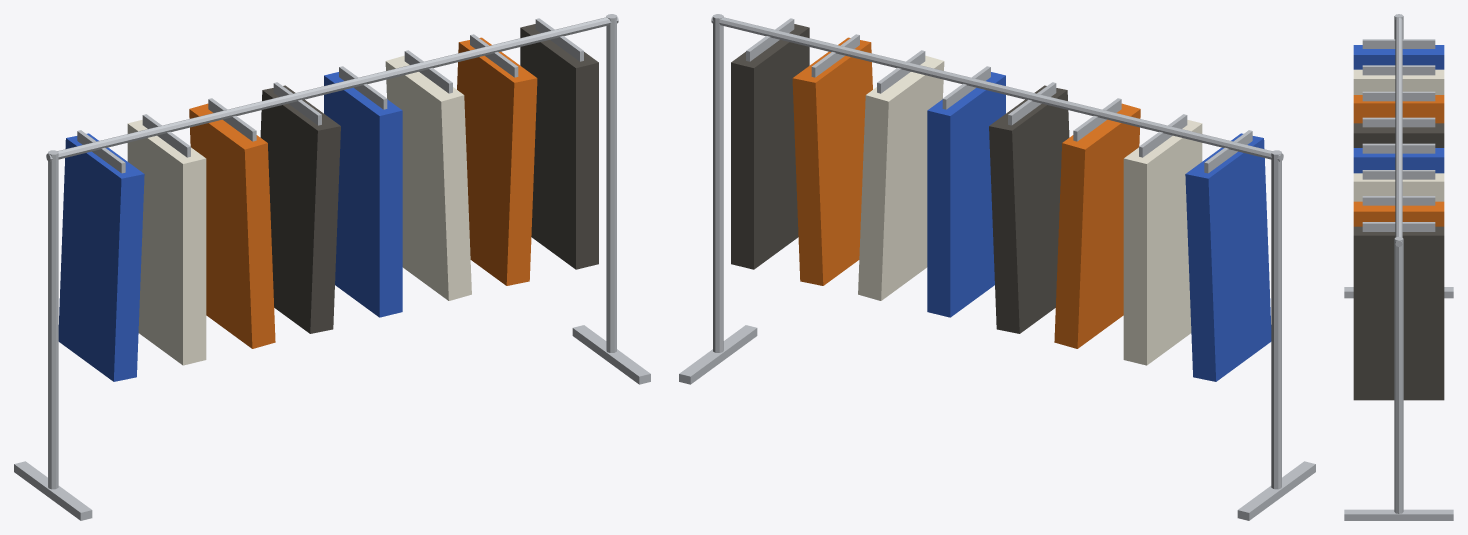
The model's file is rack_trades.glb.
3 views of the same model, side by side, from view 1: azimuth 30°, elevation 25°; view 2: azimuth 150°, elevation 25°; view 3: azimuth 270°, elevation 25° (orthographic). The views are drawn at different scales.
Visible parts, largest first — view 1: costume, post_rack_chrome, bar_rack_chrome, hanger_rack_chrome, foot_rack_chrome; view 2: costume, post_rack_chrome, bar_rack_chrome, hanger_rack_chrome, foot_rack_chrome; view 3: costume, hanger_rack_chrome, post_rack_chrome, bar_rack_chrome, foot_rack_chrome.
Part boxes in pixels (bbox=[...]): costume: bbox=[58, 24, 598, 381]; post_rack_chrome: bbox=[48, 14, 616, 489]; bar_rack_chrome: bbox=[46, 15, 618, 161]; hanger_rack_chrome: bbox=[77, 18, 583, 173]; foot_rack_chrome: bbox=[14, 325, 650, 520]; costume: bbox=[731, 24, 1271, 381]; post_rack_chrome: bbox=[713, 14, 1281, 489]; bar_rack_chrome: bbox=[711, 15, 1283, 161]; hanger_rack_chrome: bbox=[746, 18, 1252, 173]; foot_rack_chrome: bbox=[679, 325, 1315, 520]; costume: bbox=[1353, 45, 1444, 400]; hanger_rack_chrome: bbox=[1362, 39, 1435, 231]; post_rack_chrome: bbox=[1394, 14, 1403, 513]; bar_rack_chrome: bbox=[1395, 18, 1402, 246]; foot_rack_chrome: bbox=[1344, 287, 1453, 520].
Bounding box in the file's own units: 2.96 × 1.7 × 0.6.
